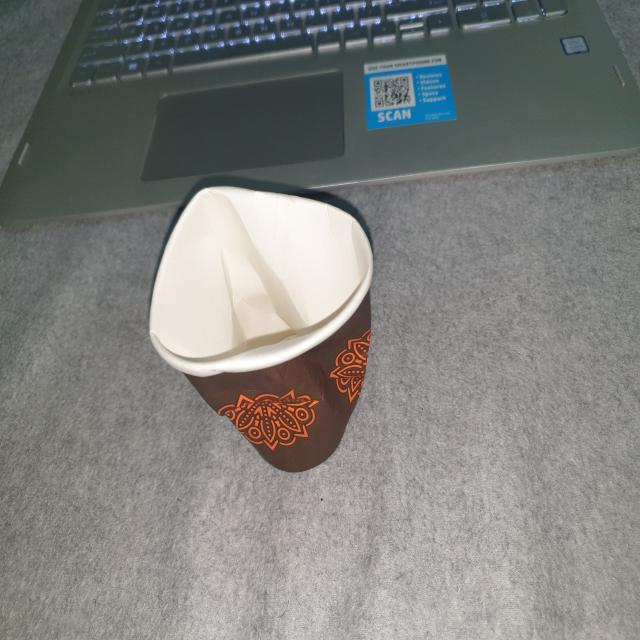cups: (144, 174, 379, 484)
